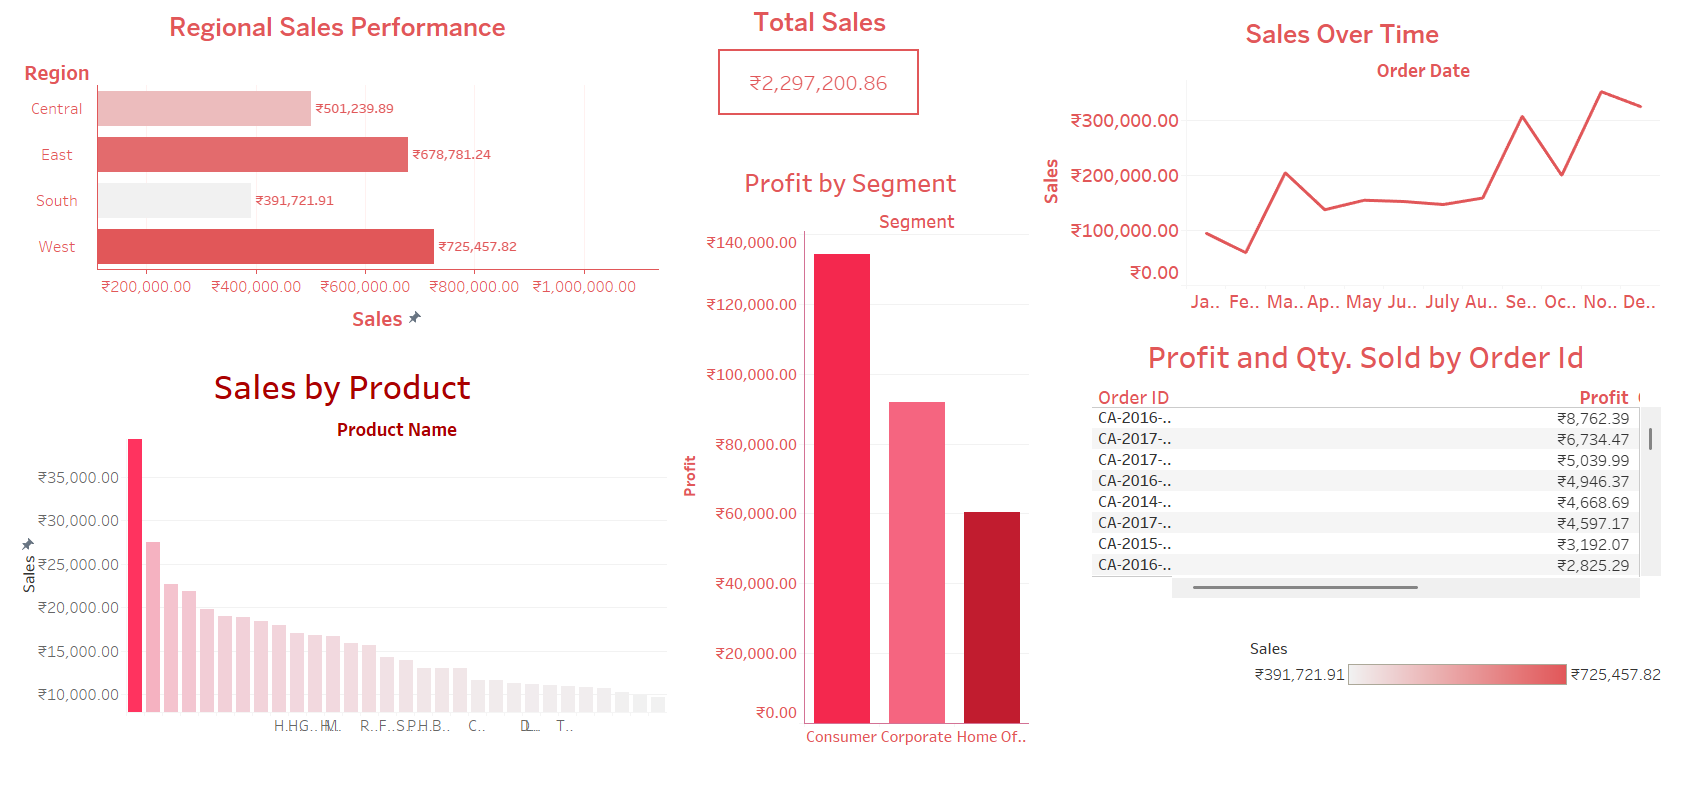

This screenshot's page, from the dashboard's own definition file:
{"tool":"tableau","page":{"name":"Dashboard 1","canvas":[1000,1000],"units":"permille","ordinal":0},"visuals":[{"type":"worksheet","title":"Total Sales","mark":"Automatic","box":[420,7.5,120.1,151.1]},{"type":"worksheet","title":"Regional Sales","mark":"Bar","rows":["Region"],"cols":["Sales"],"box":[10,13.7,377.9,440.7]},{"type":"worksheet","title":"Sales Over Time","mark":"Line","rows":["Sales"],"cols":["Order Date"],"box":[604,22.5,368.5,373.3]},{"type":"worksheet","title":"Profit by Segment","mark":"Bar","rows":["Profit"],"cols":["Segment"],"box":[393.7,204.7,209.1,732.8]},{"type":"worksheet","title":"Profit and Qty. Sold by Order Id","mark":"Text","rows":["Order ID"],"box":[639.7,417,333.3,333.3]},{"type":"worksheet","title":"Sales by Product","mark":"Automatic","rows":["Sales"],"cols":["Product Name"],"box":[10.5,451.9,380.2,489.4]},{"type":"legend","title":"Regional Sales","param":"[federated.03ncqiu1u8s2ny1aalorg1q5w2i5].[sum:Sales:qk]","box":[732.3,800.2,243.7,154.8]}]}

Visuals, with their boxes on the dashboard's canvas, which has no fixed pixel size, in thousandths of its width and height (x1, y1, x2, y2). These are canvas units, not pixel positions in the 1698x793 screenshot, which may show the page scaled, cropped or inside an application window:
"Total Sales" worksheet: detection(420, 8, 540, 159)
"Regional Sales" worksheet (Bar marks): detection(10, 14, 388, 454)
"Sales Over Time" worksheet (Line marks): detection(604, 22, 972, 396)
"Profit by Segment" worksheet (Bar marks): detection(394, 205, 603, 938)
"Profit and Qty. Sold by Order Id" worksheet (Text marks): detection(640, 417, 973, 750)
"Sales by Product" worksheet: detection(10, 452, 391, 941)
"Regional Sales" legend: detection(732, 800, 976, 955)
